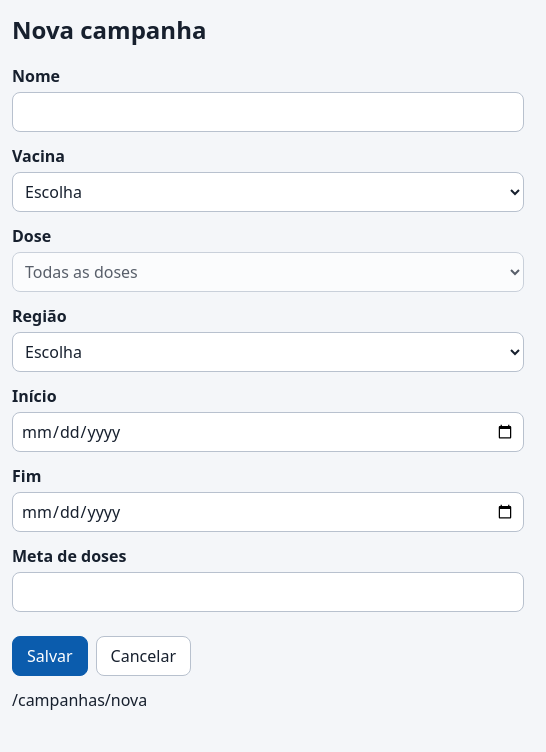
Test: campaign form › maps 422 codes to field messages
The image size is (546, 752).
In the field labelled "Nome": x=268, y=112 [12, 92, 524, 132], type "Campanha BCG"
Select "BCG" in the dropdown labelled "Vacina": x=268, y=192 [12, 172, 524, 212]
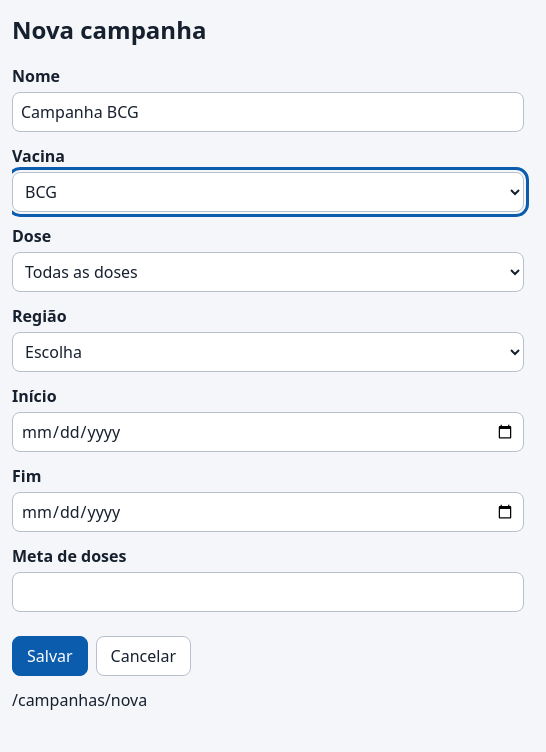
Select "Brasil" in the dropdown labelled "Região": x=268, y=352 [12, 332, 524, 372]
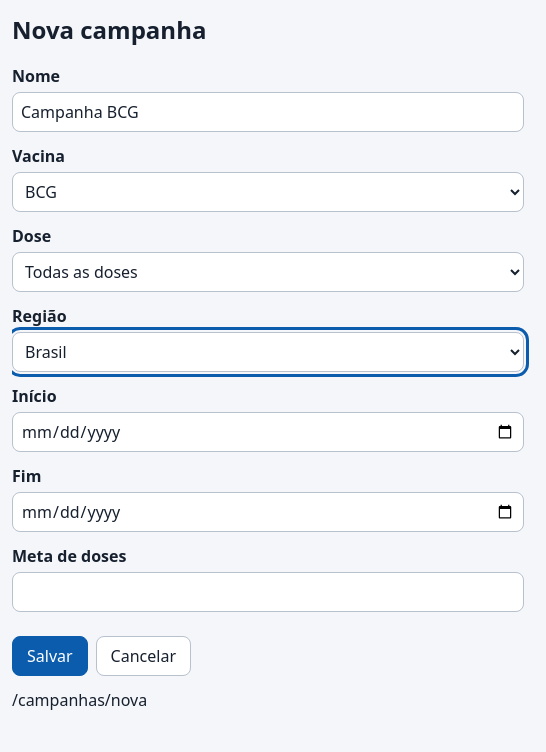
In the date field labelled "Início": x=268, y=432 [12, 412, 524, 452], type "2026-10-01"
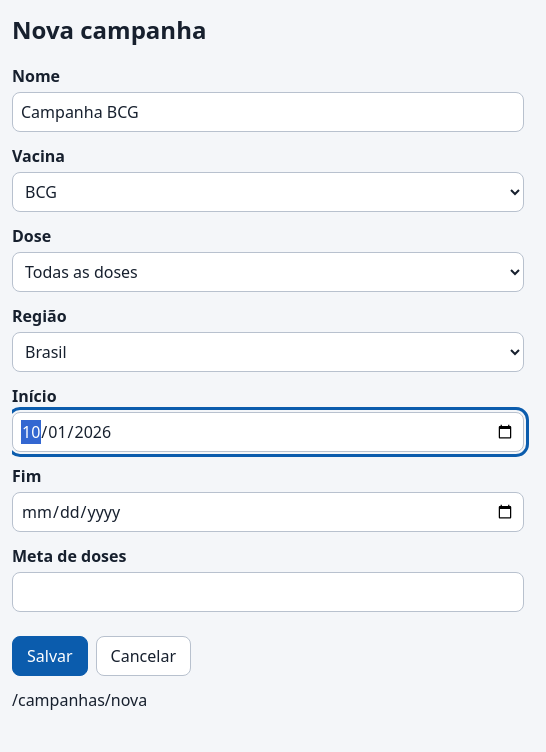
In the date field labelled "Fim": x=268, y=512 [12, 492, 524, 532], type "2026-10-31"
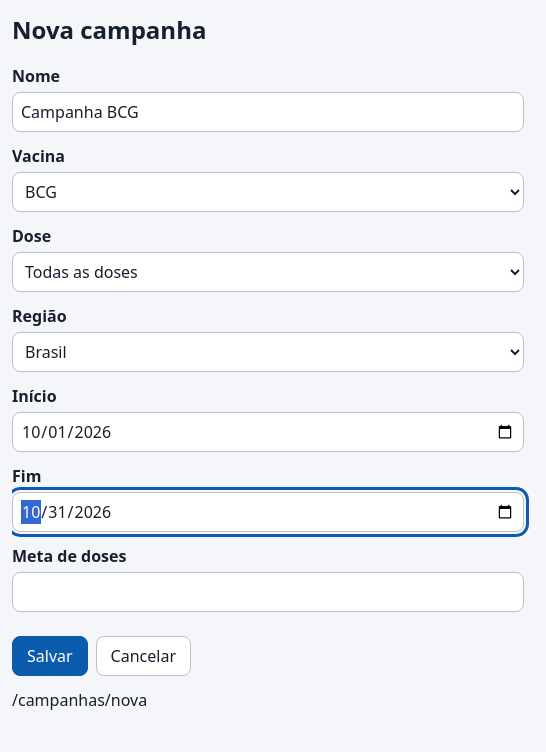
In the field labelled "Meta de doses": x=268, y=592 [12, 572, 524, 612], type "100"
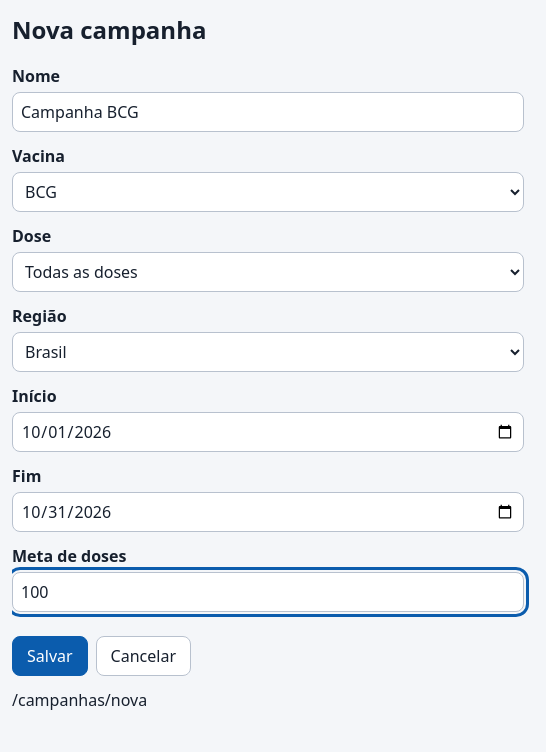
Click the button "Salvar": x=50, y=656 [12, 636, 88, 676]
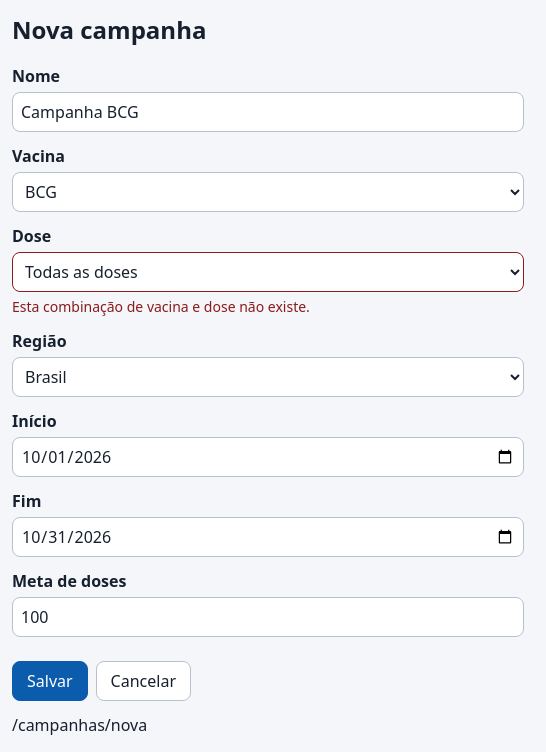
Expected: the text "Esta combinação de vacina e dose não existe." is shown, [12, 297, 310, 316]
